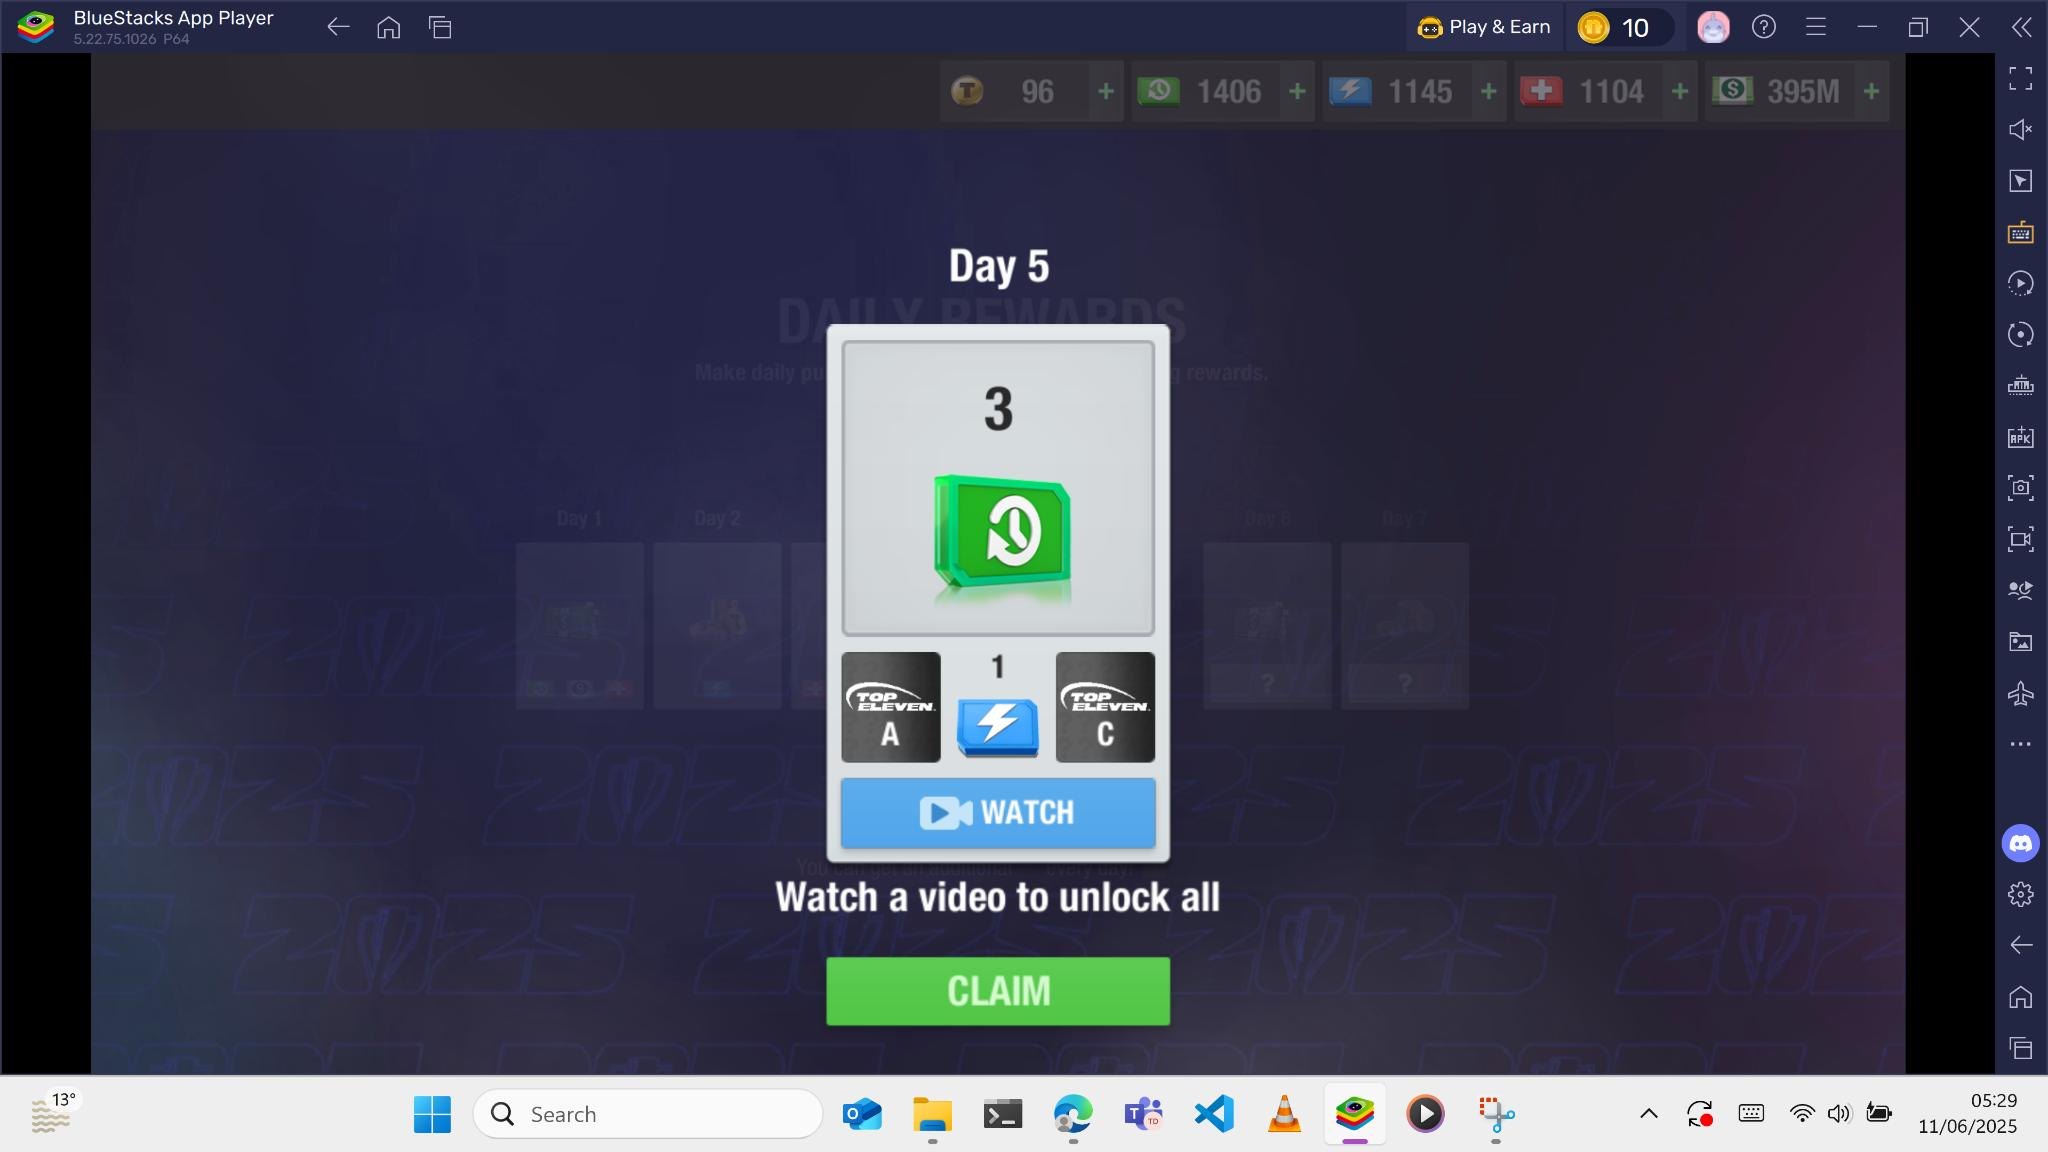daily_rewards_watch_ads: (841, 778, 1156, 848)
